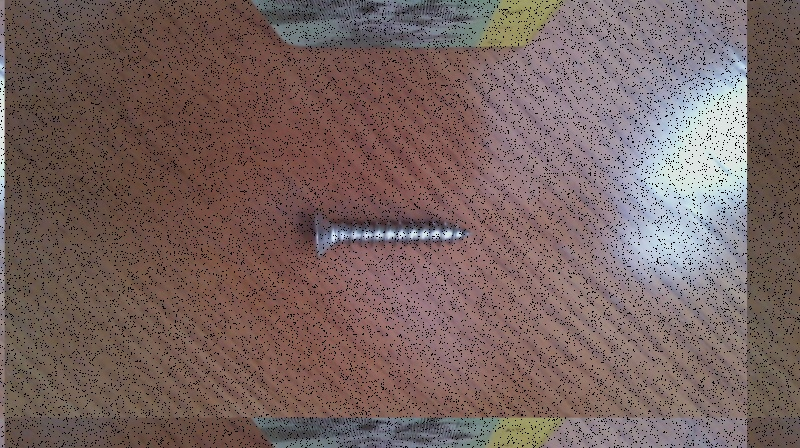S001: (307, 205, 477, 261)
